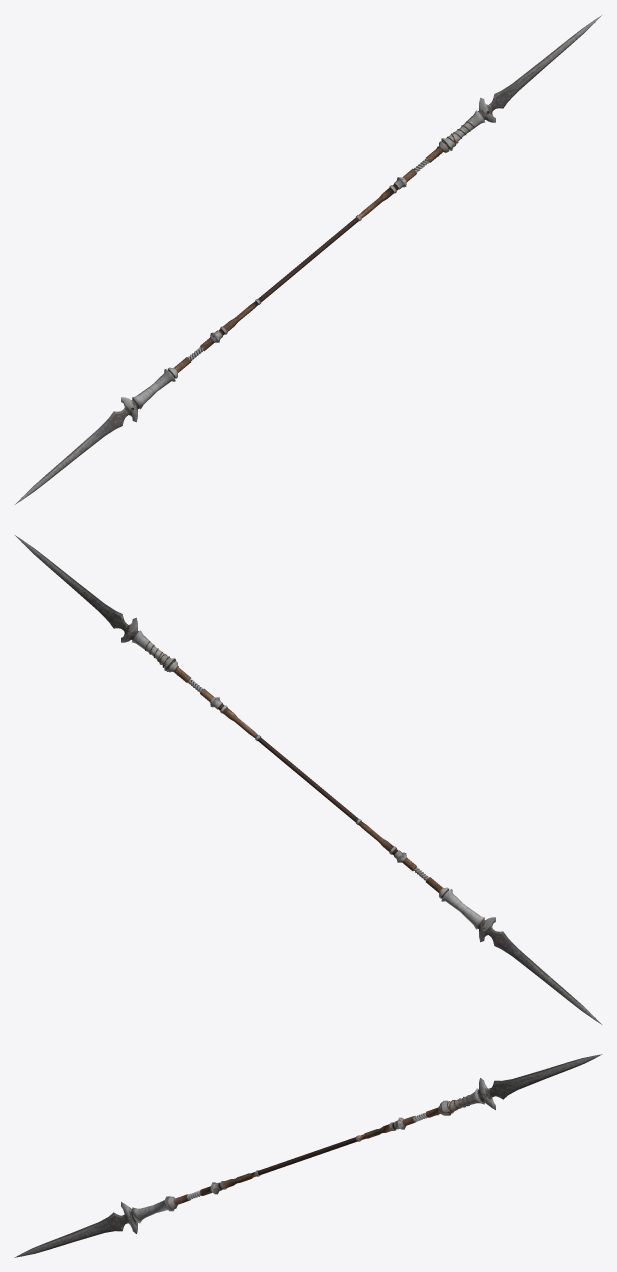
The model's file is w_spear.glb.
3 views of the same model, one above another, from view 1: azimuth 30°, elevation 25°; view 2: azimuth 150°, elevation 25°; view 3: azimuth 330°, elevation 25° (orthographic).
Parts seen in each view (by area): view 1: Cylinder_Material_0; view 2: Cylinder_Material_0; view 3: Cylinder_Material_0.
Boxes of the visible parts, x1,y1,x2,y2 form: Cylinder_Material_0: (15,15,601,504); Cylinder_Material_0: (15,535,601,1024); Cylinder_Material_0: (14,1054,602,1257).
Size of the model in its own units: 11574 by 6524 by 293.
Materials: 1 (1 with a texture image).
